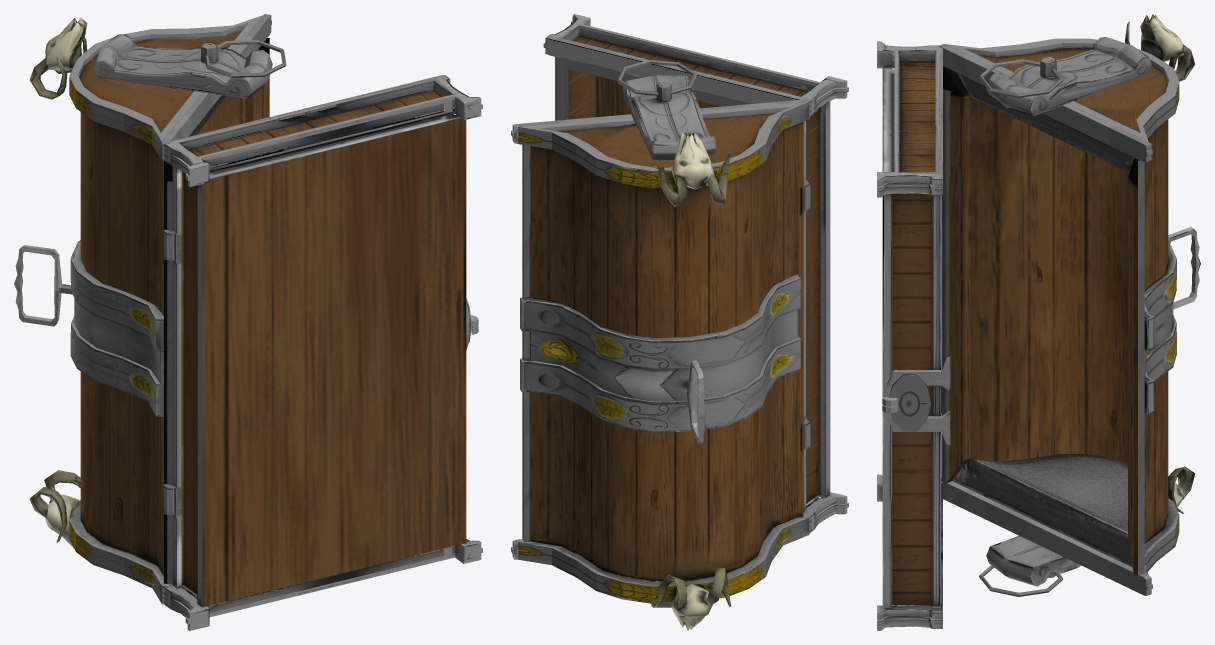
File: Chest.fbx
3 views of the same model, side by side, from view 1: azimuth 30°, elevation 25°; view 2: azimuth 150°, elevation 25°; view 3: azimuth 270°, elevation 25° (orthographic). The views are drawn at different scales.
Visible parts, largest first — view 1: Loot_16; view 2: Loot_16; view 3: Loot_16.
Part boxes in pixels (bbox=[...]): Loot_16: bbox=[14, 14, 482, 630]; Loot_16: bbox=[511, 14, 848, 630]; Loot_16: bbox=[877, 14, 1200, 630].
Bounding box in the file's own units: 40.44 × 37.8 × 67.3.
